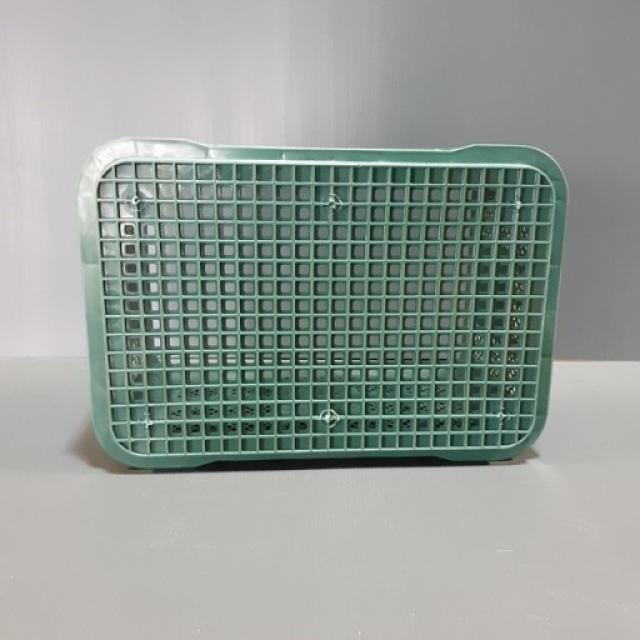basket: (73, 137, 570, 477)
